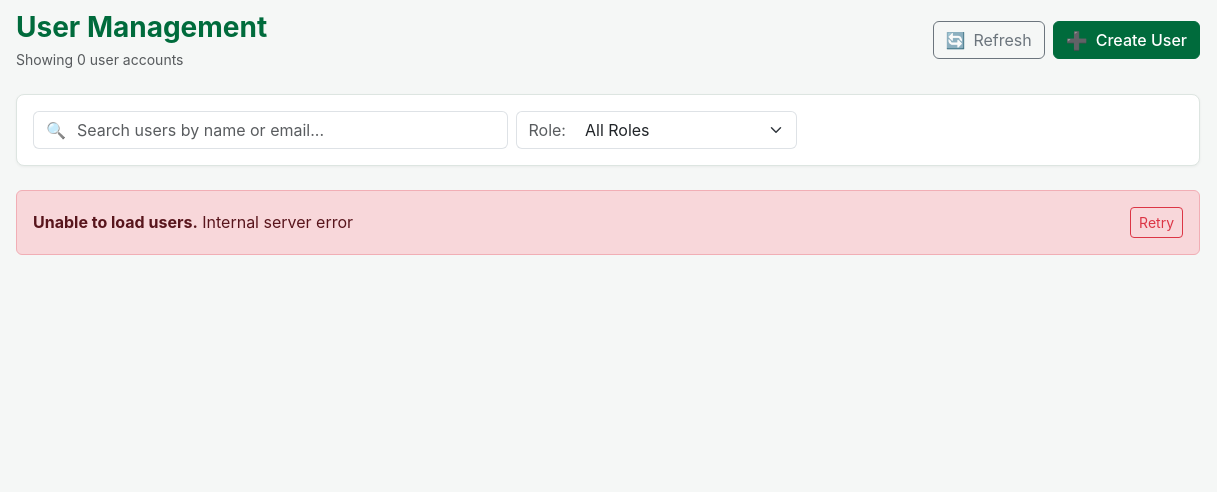
Administrator User Management Component (UI-09, UI-10) › UI-09: Screen rendering, filtering, creation and error states › displays error banner with Retry button on API failure
The image size is (1217, 492).
Check: the message "Unable to load users. Internal server error Retry" is shown, box [16,190,1200,255]
// Click retry
Click the button with test id "retry-btn" at coordinates (1157, 222), box [1130,207,1183,238]
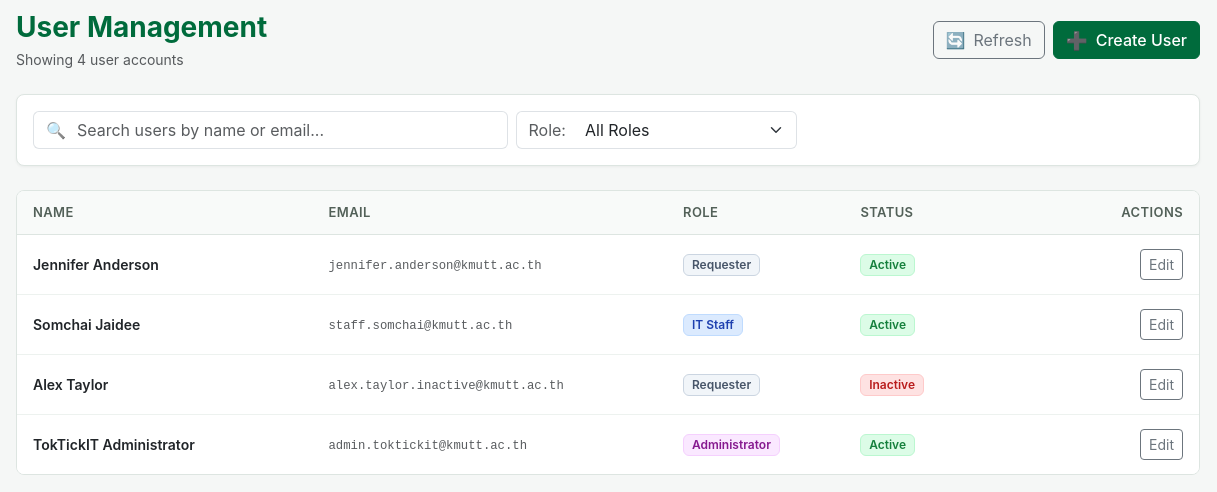
Check: the table with test id "user-management-table" is shown, box [17,191,1199,474]
